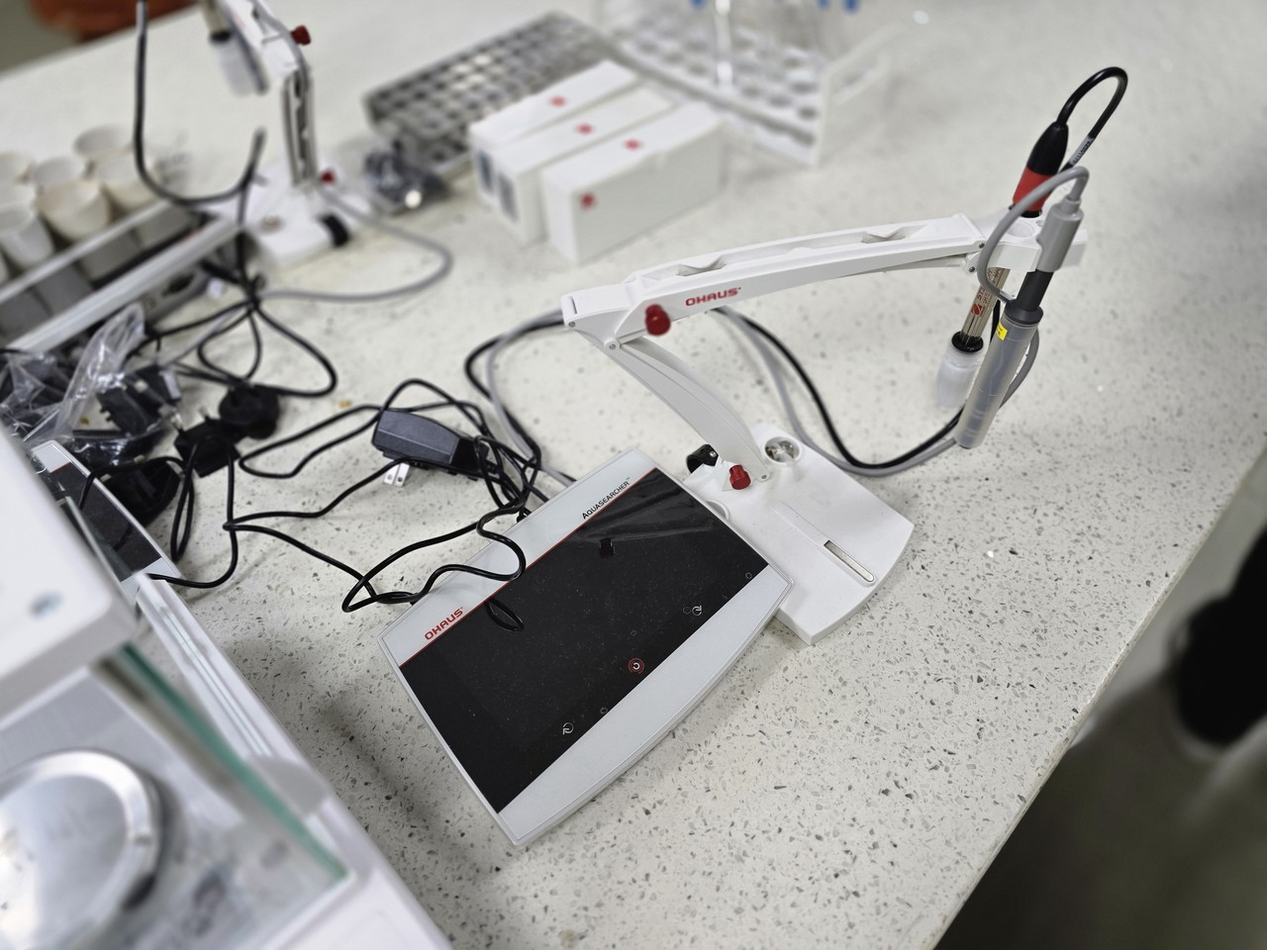aquasearcher_ab33m1: (181, 72, 1158, 923)
